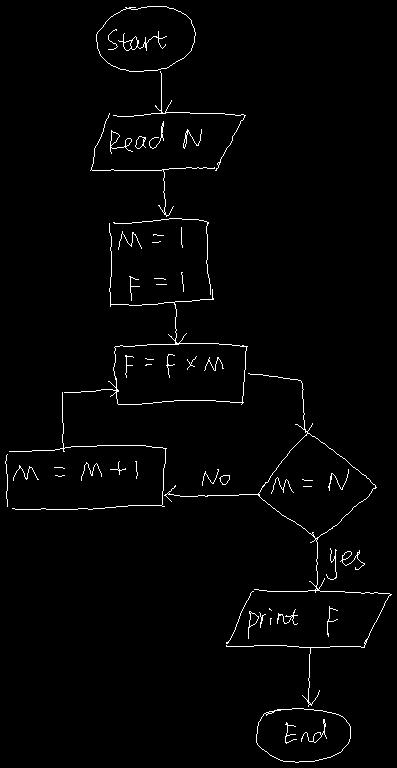arrow: (62, 381, 118, 451), (248, 373, 312, 432), (164, 485, 259, 501), (302, 648, 319, 706), (309, 532, 324, 592), (168, 303, 186, 344), (158, 169, 173, 216), (155, 71, 171, 113)
data: (226, 589, 391, 647), (90, 112, 245, 170)
decision: (257, 432, 376, 542)
process: (5, 445, 166, 509), (109, 218, 213, 306), (113, 343, 247, 404)
terminator: (96, 6, 195, 71), (256, 708, 350, 762)
text: (118, 227, 183, 300), (110, 121, 201, 153), (248, 606, 337, 638), (13, 461, 137, 480), (125, 354, 223, 377), (271, 469, 348, 493), (108, 29, 166, 50), (326, 548, 364, 579), (285, 719, 326, 743), (202, 469, 229, 485)
